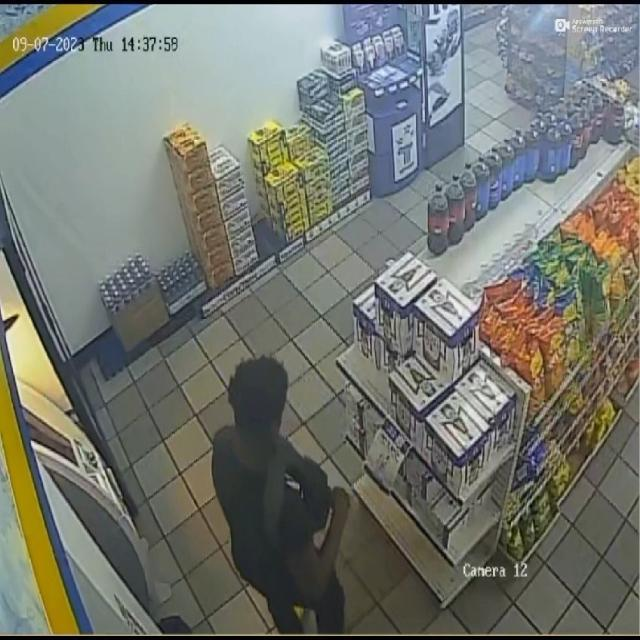normal: (201, 325, 379, 640)
